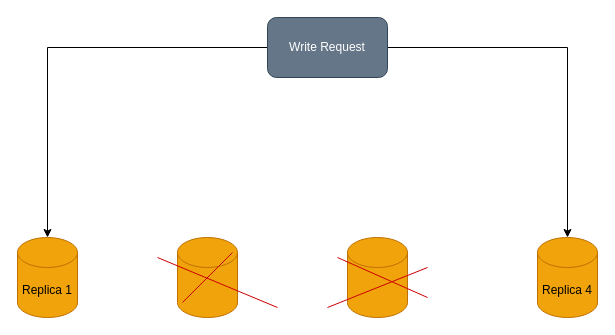
The diagram is 615 pixels wide and 335 high, and some of its shapes have lost their labels. The centre of each missing label's shape, as x and y in pixels:
Replica 2: (207,277)
Replica 3: (377,277)
